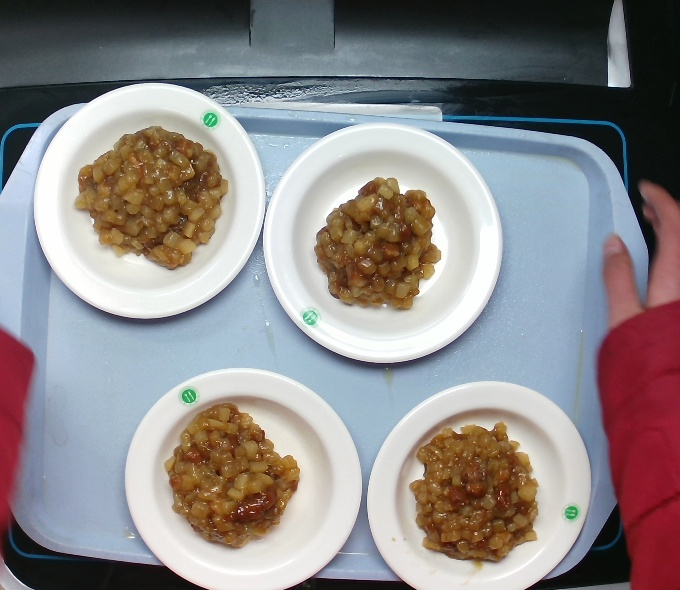wcq-RouYuan: (65, 113, 237, 271), (298, 162, 461, 320), (158, 396, 316, 550), (389, 422, 557, 561)
